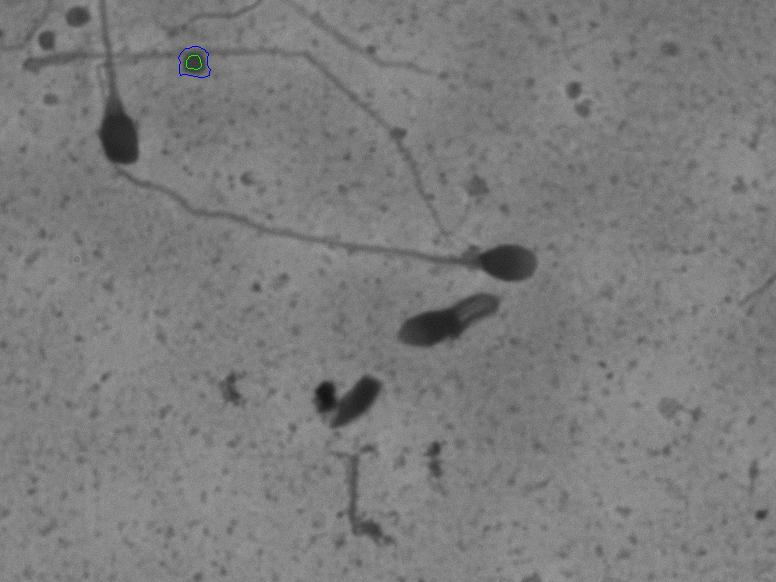Abnormal: (379, 287, 528, 373)
Normal: (99, 162, 544, 282)
